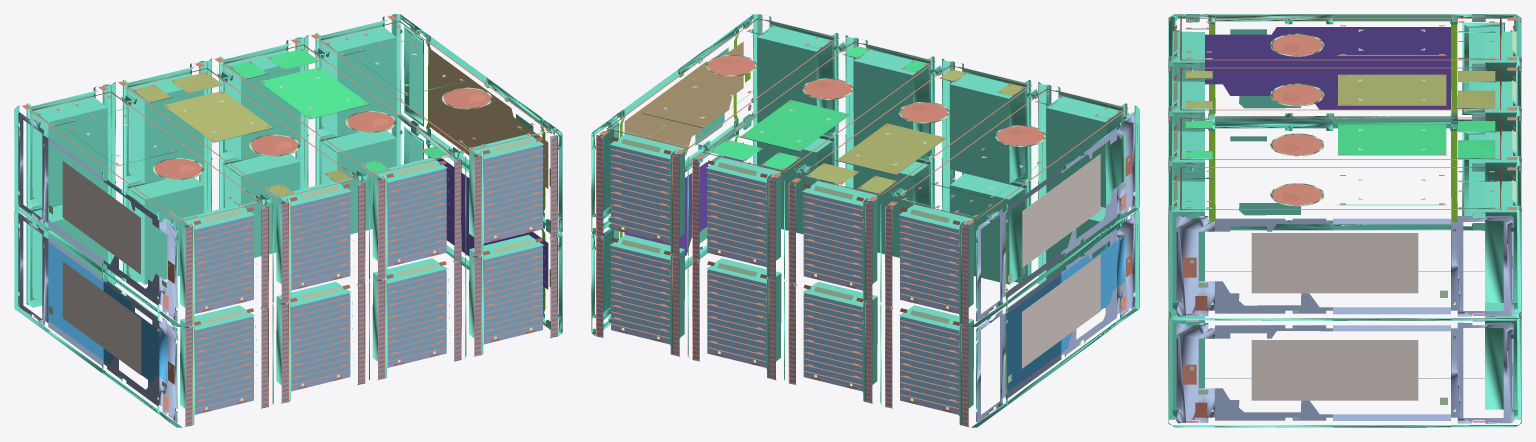
Rendered from storage_container_stack_4_a_lod1.glb.
3 renders of one model, left to right at view 1: azimuth 30°, elevation 25°; view 2: azimuth 150°, elevation 25°; view 3: azimuth 270°, elevation 25°, orthographic. The views are drawn at different scales.
Bounding box in the file's own units: 10.02 × 5.03 × 7.49.
